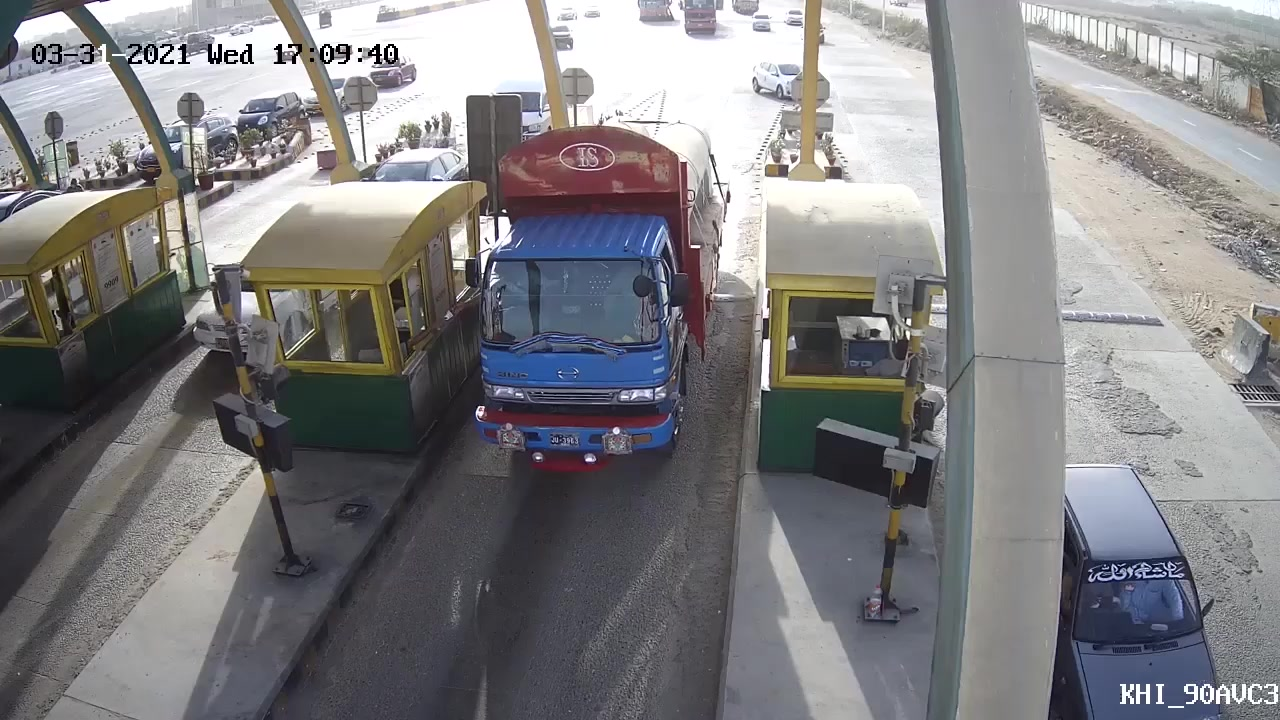F5: (476, 124, 725, 482)
